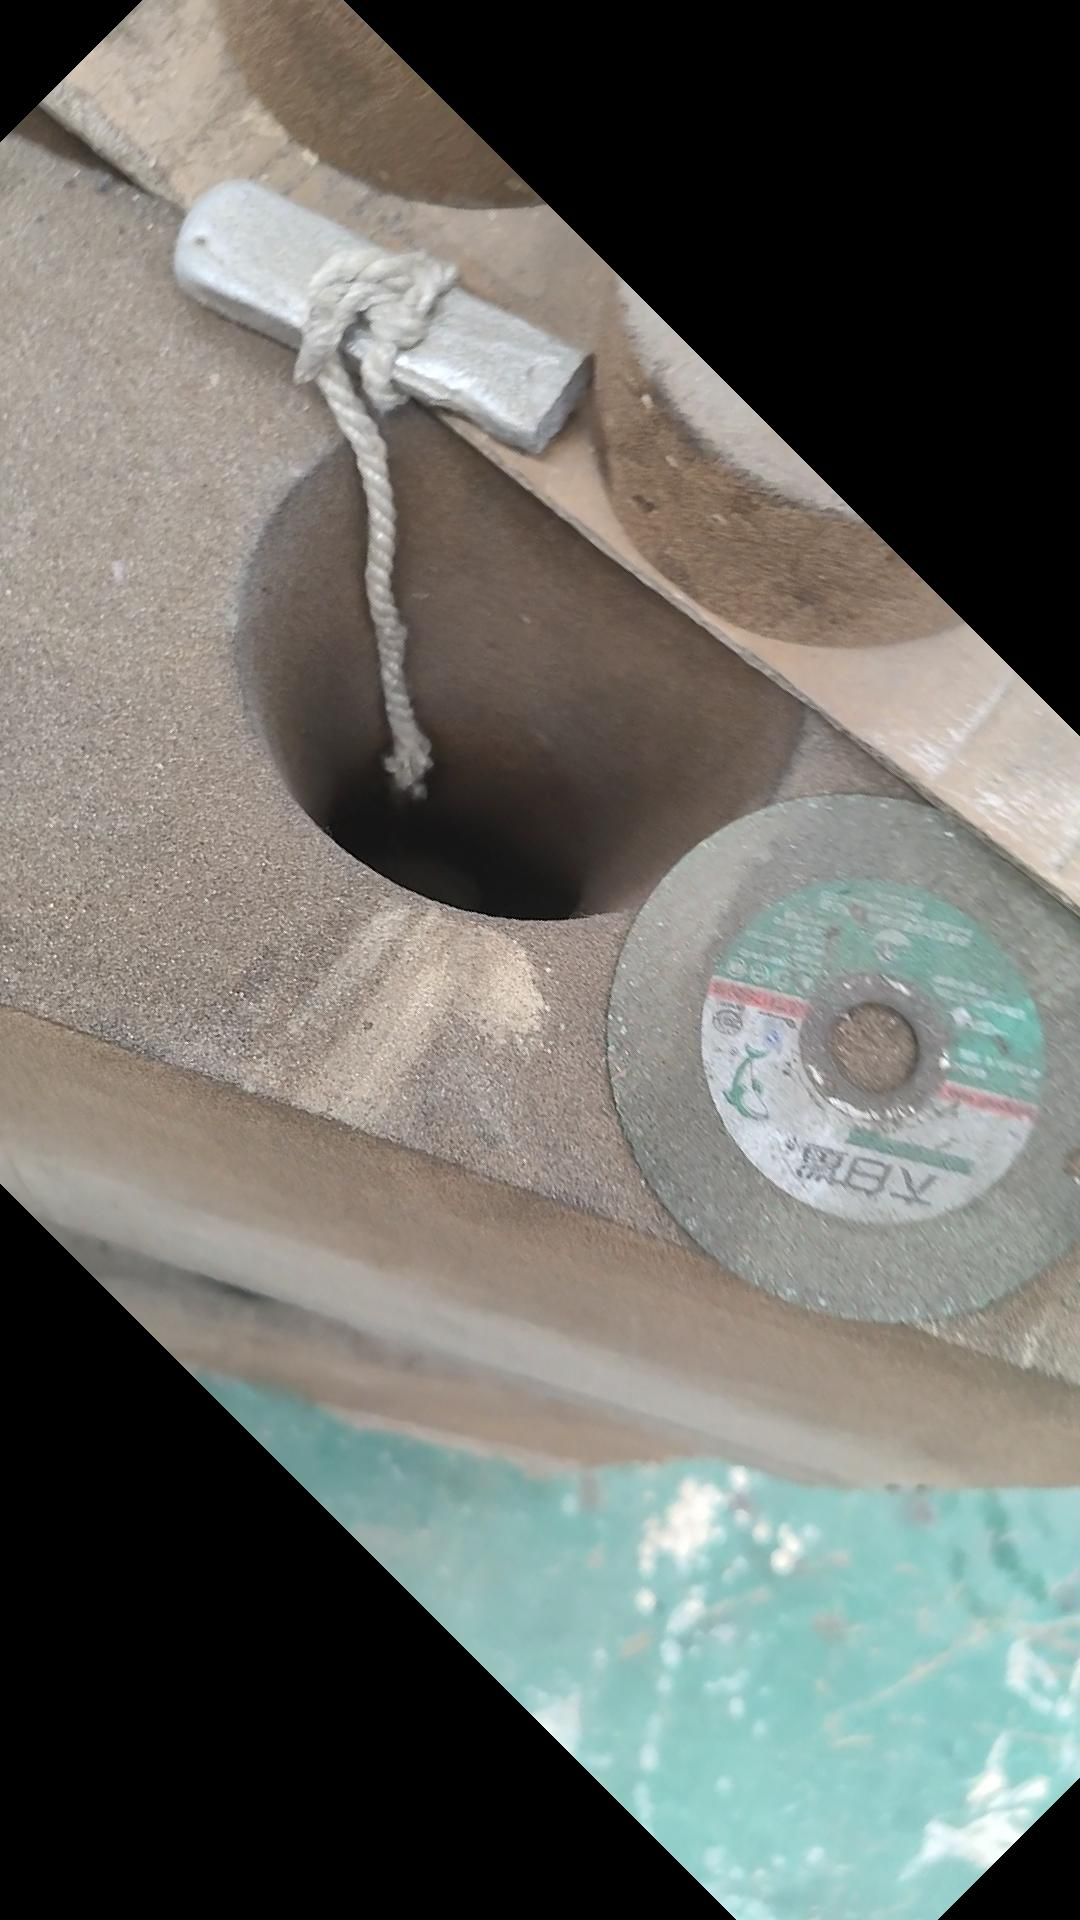pouring hole: (233, 388, 802, 924)
